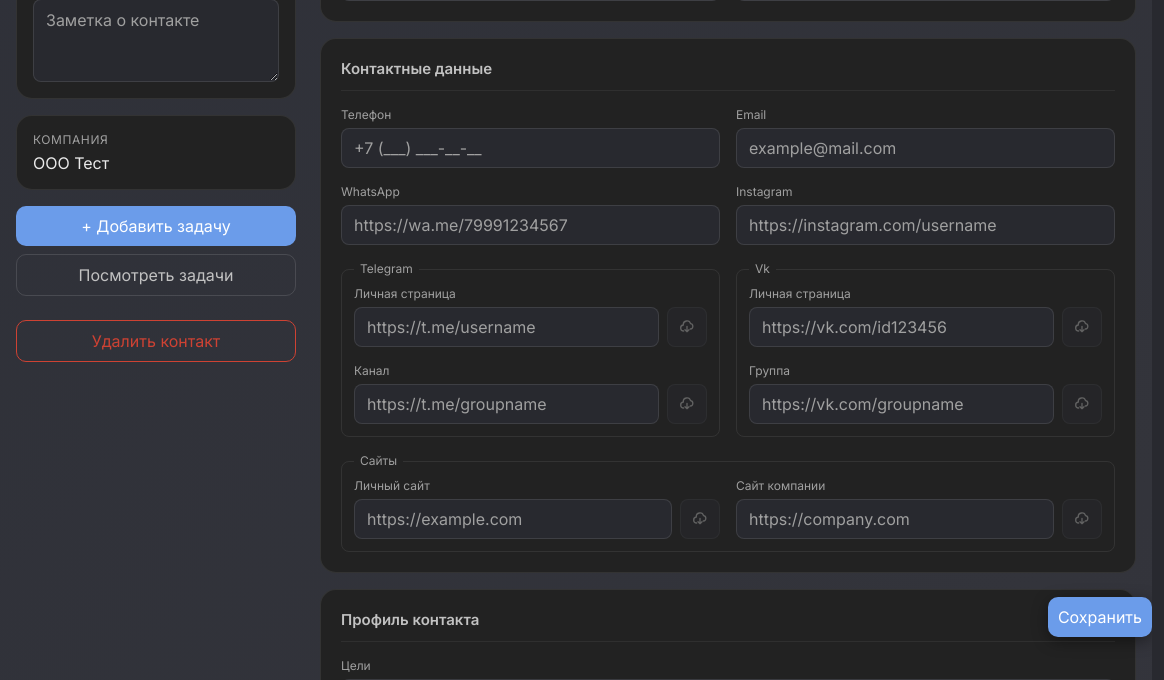
Test: ContactPage › delete loading state › shows "Удаление..." while deleting
(page scrolled)
Click the button "Удалить контакт" at (156, 341), box [16, 320, 296, 362]
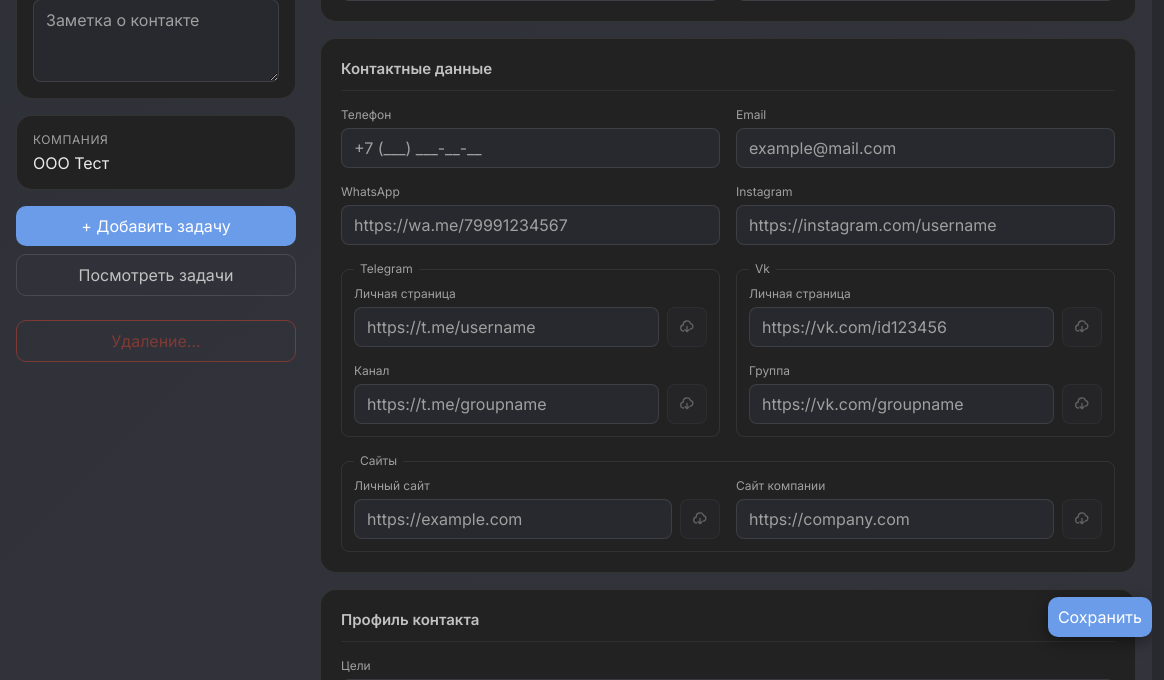
Expected: the button "Удаление..." is shown, [16, 320, 296, 362]
